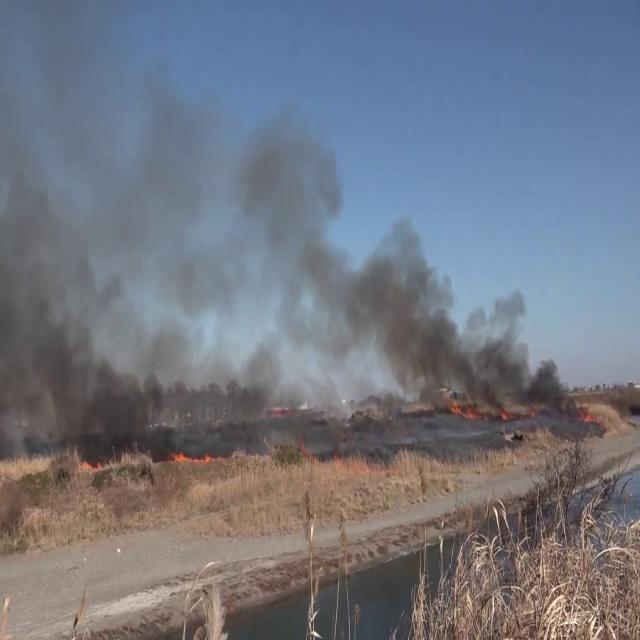Smoke: (0, 0, 368, 451), (322, 215, 575, 421)
